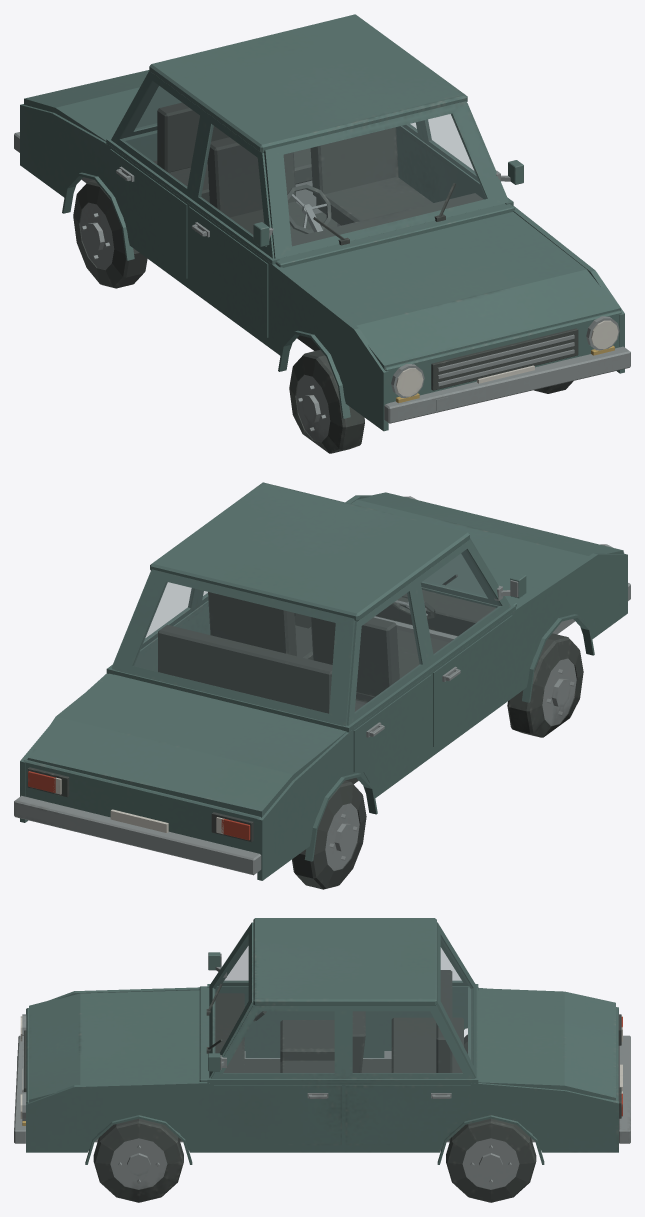
Rendered from old_sedan_abandoned.glb.
3 renders of one model, top to bottom at view 1: azimuth 30°, elevation 25°; view 2: azimuth 150°, elevation 25°; view 3: azimuth 270°, elevation 25°, orthographic. The views are drawn at different scales.
Visible parts, largest first — view 1: SedanBodyAbandoned, SedanGlassAbandoned; view 2: SedanBodyAbandoned, SedanGlassAbandoned; view 3: SedanBodyAbandoned, SedanGlassAbandoned.
Boxes of the visible parts, x1,y1,x2,y2 form: SedanBodyAbandoned: (14,14,630,453); SedanGlassAbandoned: (121,82,486,245); SedanBodyAbandoned: (14,482,630,889); SedanGlassAbandoned: (133,550,500,712); SedanBodyAbandoned: (14,918,630,1202); SedanGlassAbandoned: (214,938,471,1072).
Size of what is drawn, in the model's own units: 1.65 by 1.45 by 4.1.
Materials: 2 (1 with a texture image).
